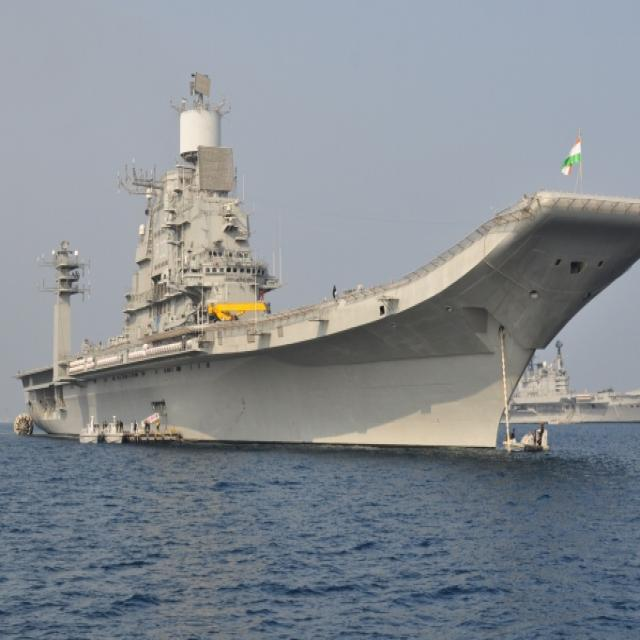Portanaves: (15, 48, 640, 464), (521, 345, 640, 428)
